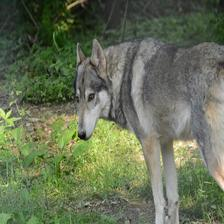WOLF: (73, 37, 224, 224)
